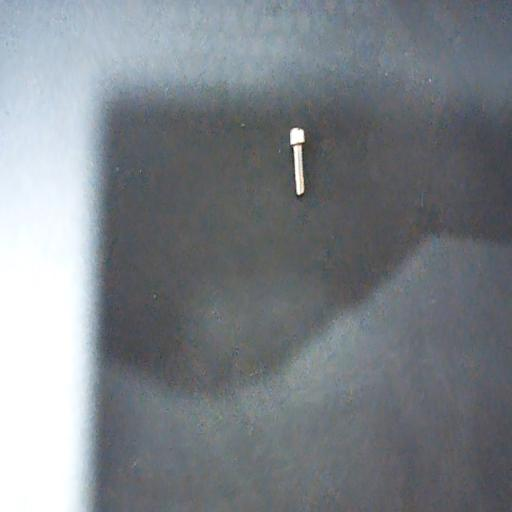screw: (290, 127, 304, 195)
